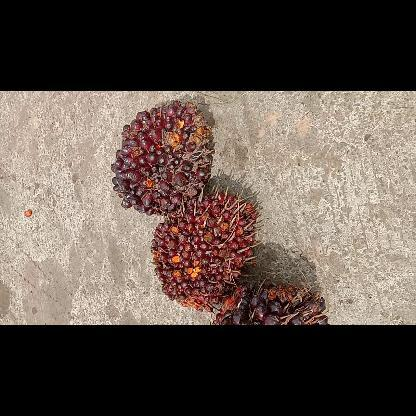Kurang masak: (152, 192, 256, 310), (110, 100, 212, 216)
TBS masak: (210, 284, 330, 324)
